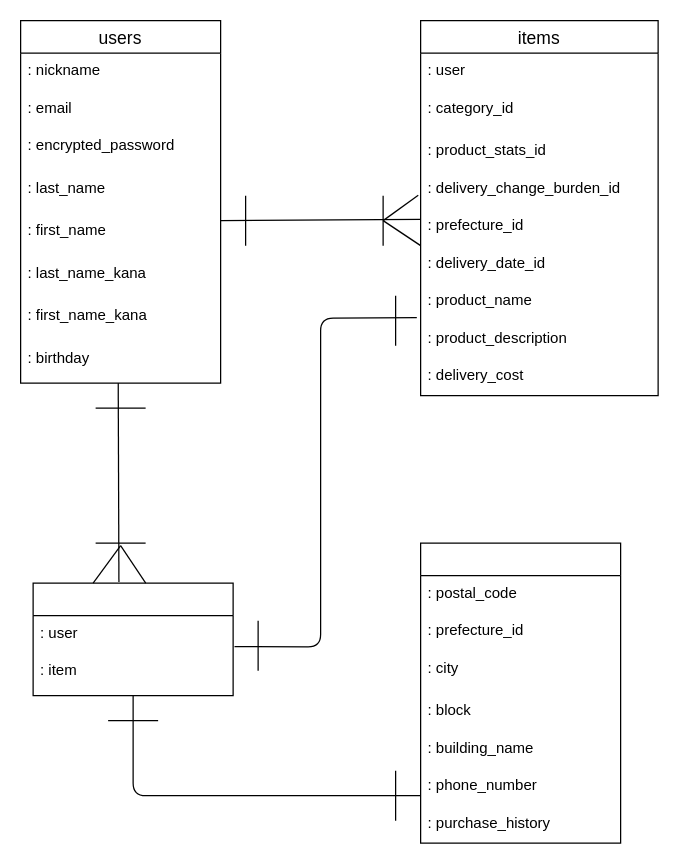
Some shapes in this 679 by 864 pixel diagram are drawn without their labels. The box of each missing label's shape, as (x1, y1, x2, y2) in pixels:
purchase_histories: (32, 582, 233, 696)
purchases: (419, 542, 621, 843)
